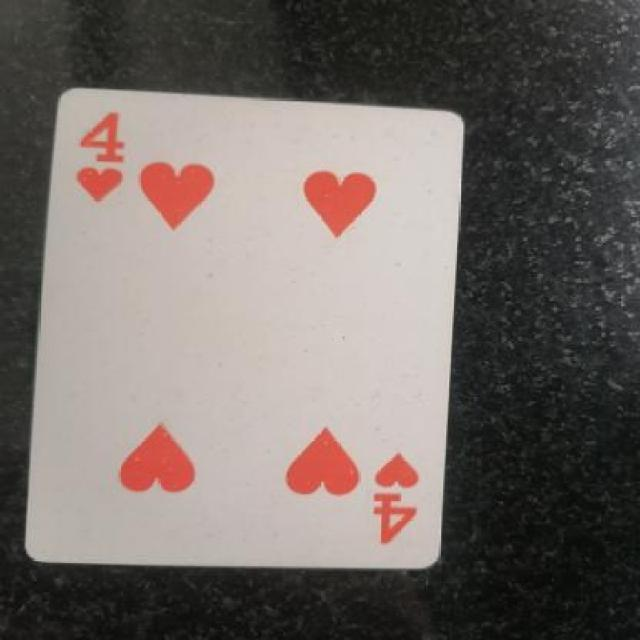4H: (59, 108, 152, 214), (372, 427, 430, 559)
